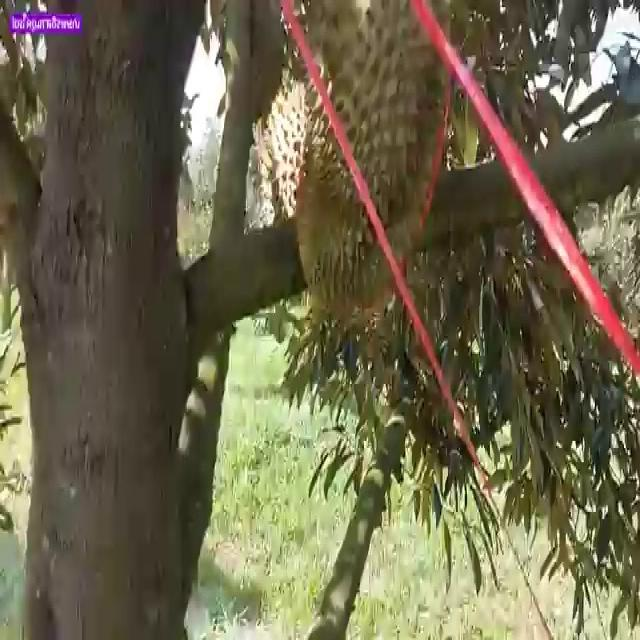durian: (294, 0, 456, 329)
